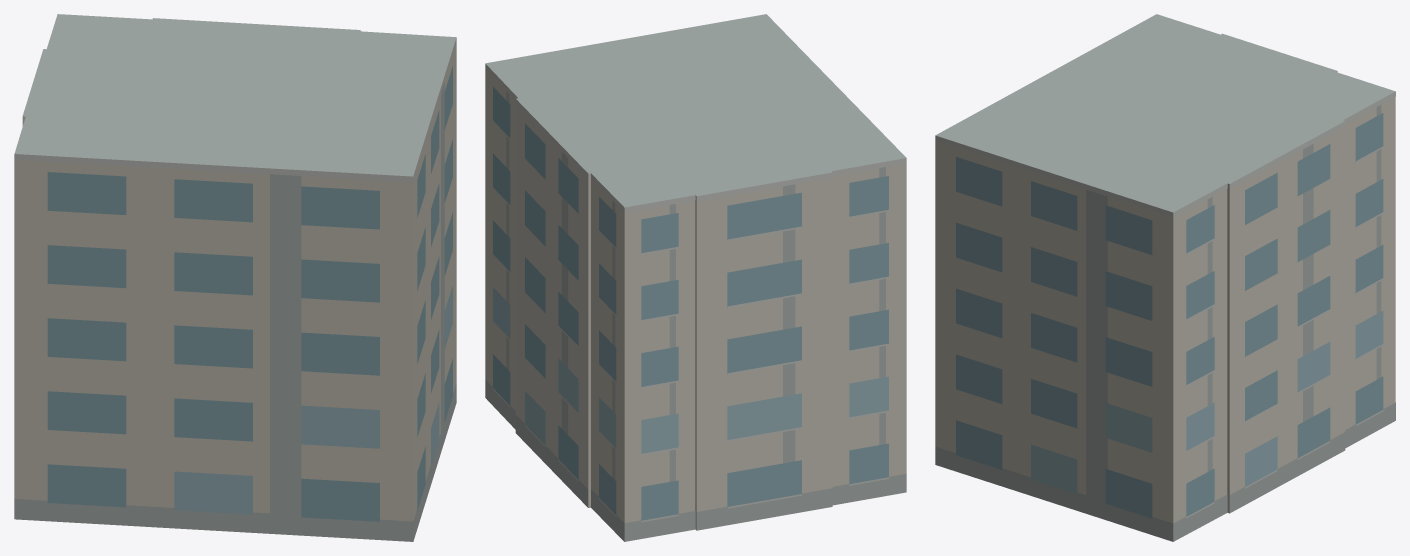
Rendered from survey-upis-32864883.glb.
3 views of the same model, side by side, from view 1: azimuth 30°, elevation 25°; view 2: azimuth 150°, elevation 25°; view 3: azimuth 270°, elevation 25° (orthographic). The views are drawn at different scales.
Parts seen in each view (by area): view 1: survey-upis-32864883.tmp; view 2: survey-upis-32864883.tmp; view 3: survey-upis-32864883.tmp.
Boxes of the visible parts, x1=… form: survey-upis-32864883.tmp: x1=14, y1=14, x2=456, y2=541; survey-upis-32864883.tmp: x1=485, y1=14, x2=906, y2=541; survey-upis-32864883.tmp: x1=935, y1=14, x2=1395, y2=541.
Size of the model in its own units: 19.72 by 15.25 by 19.33.
